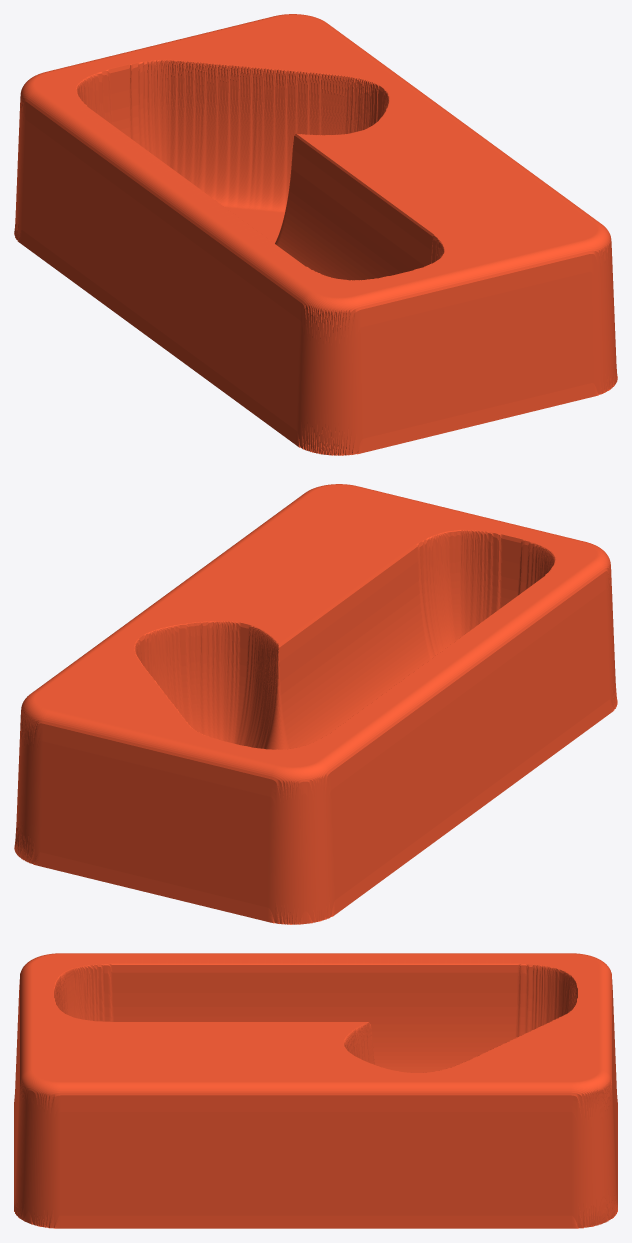
Rendered from mold.glb.
The picture shows the model from 3 angles, top to bottom: view 1: azimuth 30°, elevation 25°; view 2: azimuth 150°, elevation 25°; view 3: azimuth 270°, elevation 25°; orthographic projection. The views are drawn at different scales.
Parts seen in each view (by area): view 1: geometry_0; view 2: geometry_0; view 3: geometry_0.
Part boxes in pixels (<box>): geometry_0: <box>14,14,617,455</box>; geometry_0: <box>14,484,617,924</box>; geometry_0: <box>14,953,617,1228</box>.
Size of the model in its own units: 0.066 by 0.0299 by 0.1178.
